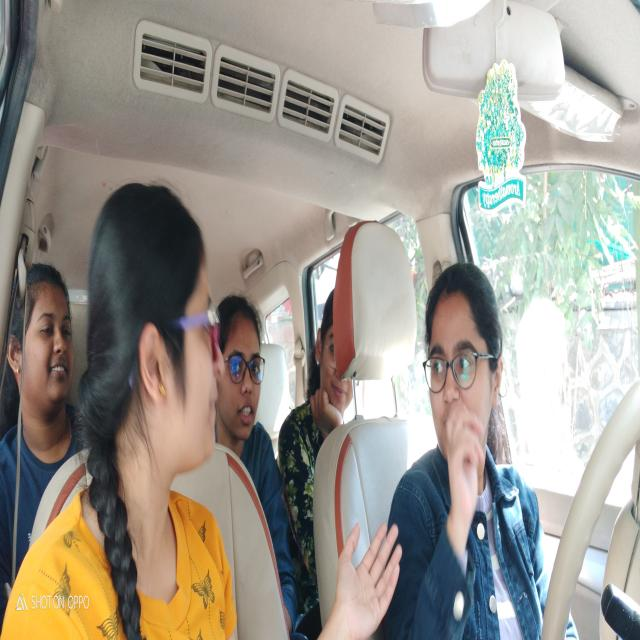LeftRight: (416, 272, 502, 460)
person: (90, 180, 219, 477), (7, 262, 74, 415), (308, 288, 359, 426), (221, 301, 267, 434)
